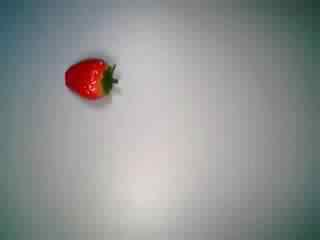strawberry: (55, 46, 128, 113)
